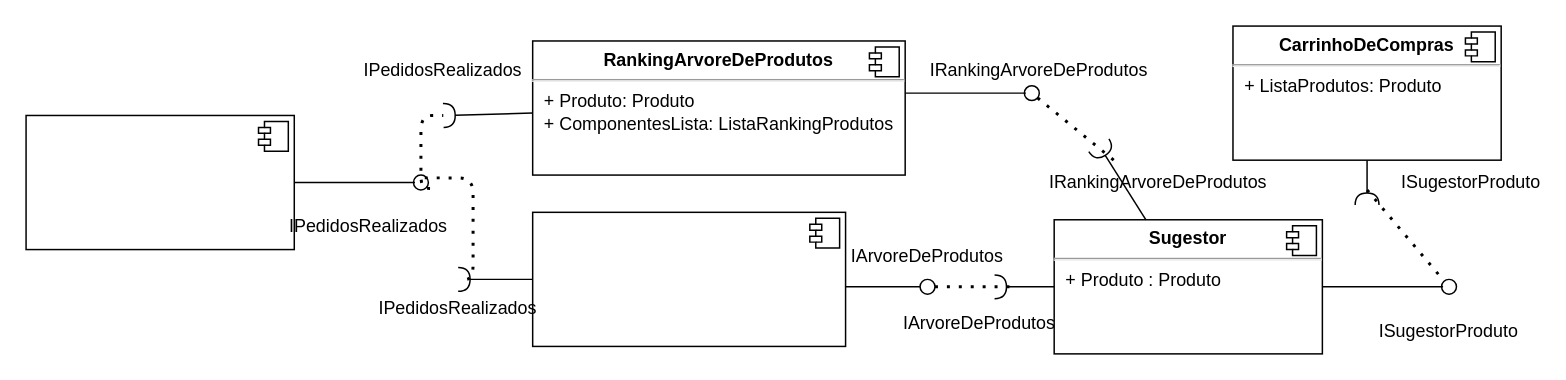
Some shapes in this 1566 by 380 pixel diagram are drawn without their labels. The centre of each missing label's shape, as x and y in pixels:
ArvoreDeProdutos + Produto: Produto + ComponentesLista: ListaProdutos: the point at 688,278
PedidosRealizados: the point at 159,182
